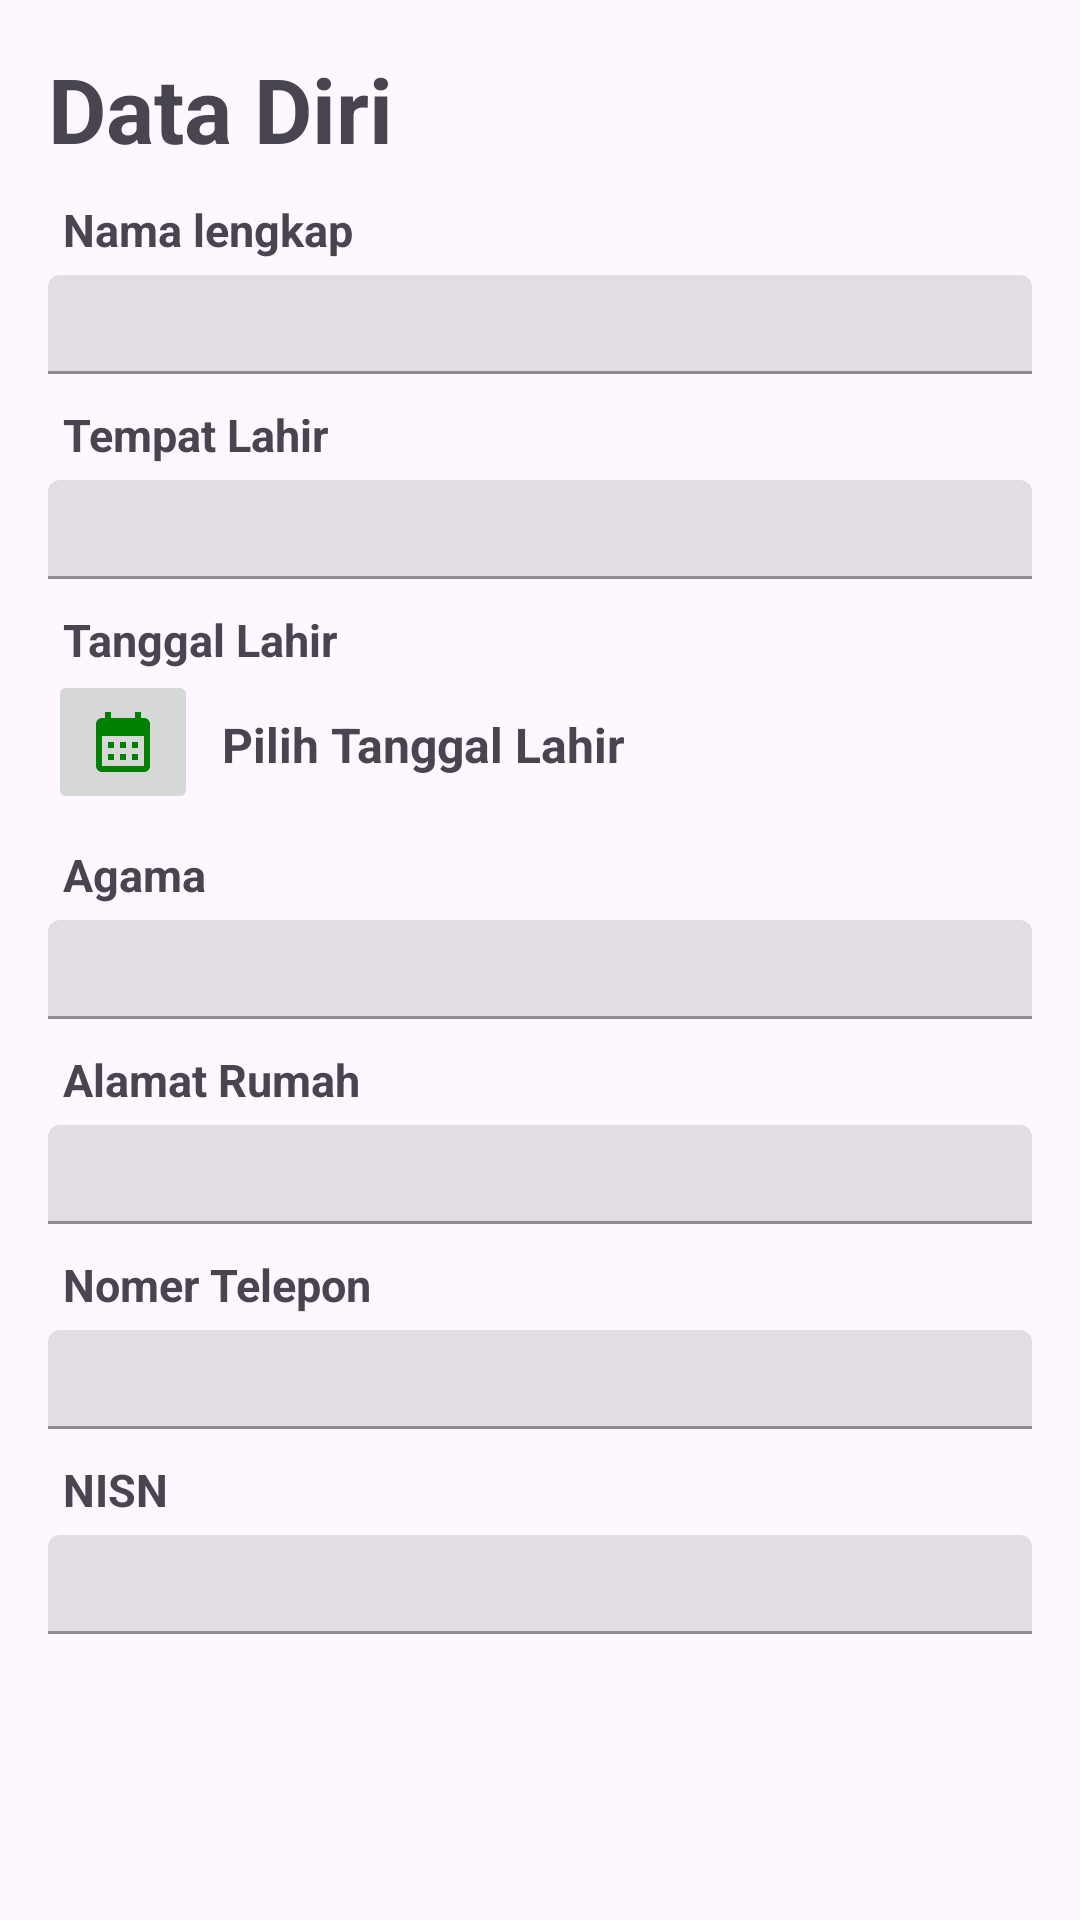

Where to tap for icons on this 1080x1920 app screen, as (x=x, y=y):
calendar month: (x=123, y=742)
